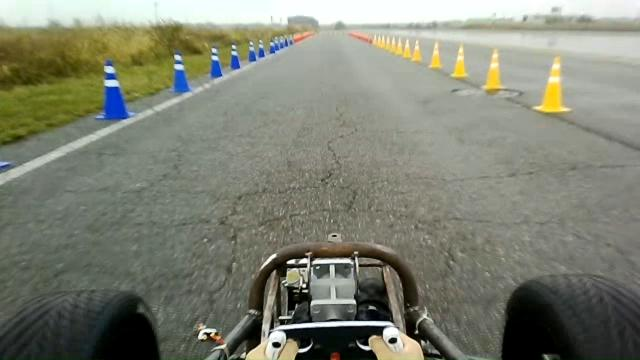blue cone: (94, 59, 134, 120), (169, 50, 192, 93), (209, 46, 223, 78), (229, 42, 241, 70), (248, 40, 256, 62), (258, 39, 265, 58)
yellow cone: (532, 55, 572, 114), (482, 48, 503, 90), (450, 43, 468, 78), (429, 40, 442, 69), (411, 39, 422, 62), (402, 38, 411, 58)
